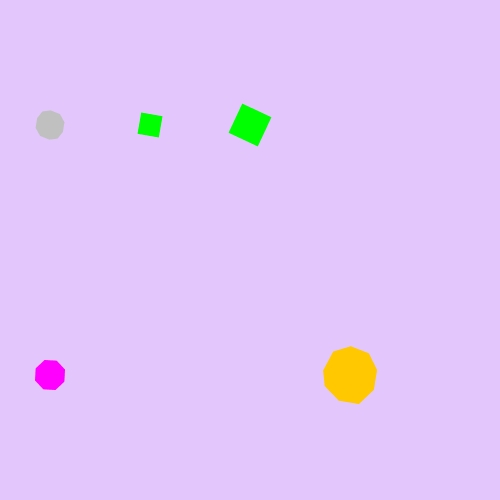decagon: (31, 107, 70, 143)
nonagon: (318, 345, 382, 406)
octagon: (30, 355, 70, 395)
quadrilateral: (224, 99, 276, 151), (131, 106, 169, 144)
